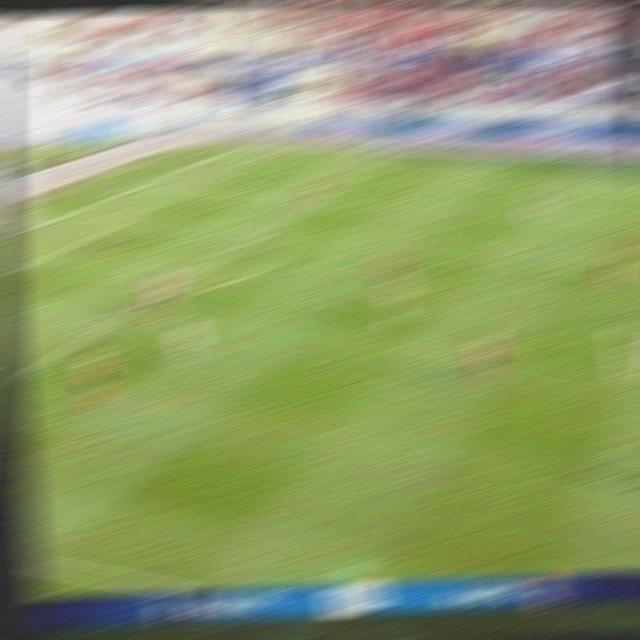bigarea_bottom_inner: (8, 363, 37, 386)
bigarea_top_inner: (311, 187, 341, 202)
bigarea_top_outter: (134, 173, 163, 186)
corner: (205, 146, 237, 155)
smallarea_top_inner: (119, 210, 149, 223)
smallarea_top_outter: (59, 201, 90, 216)
top_arc_area_intersection: (246, 225, 277, 241)
